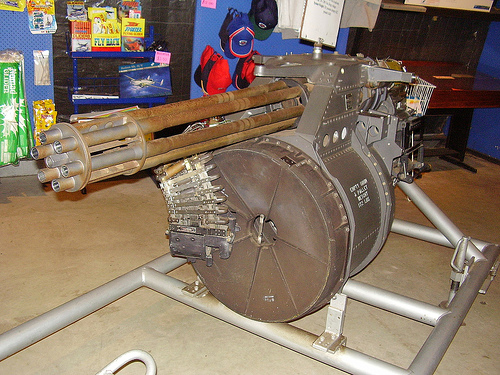rifle: (29, 55, 382, 292)
